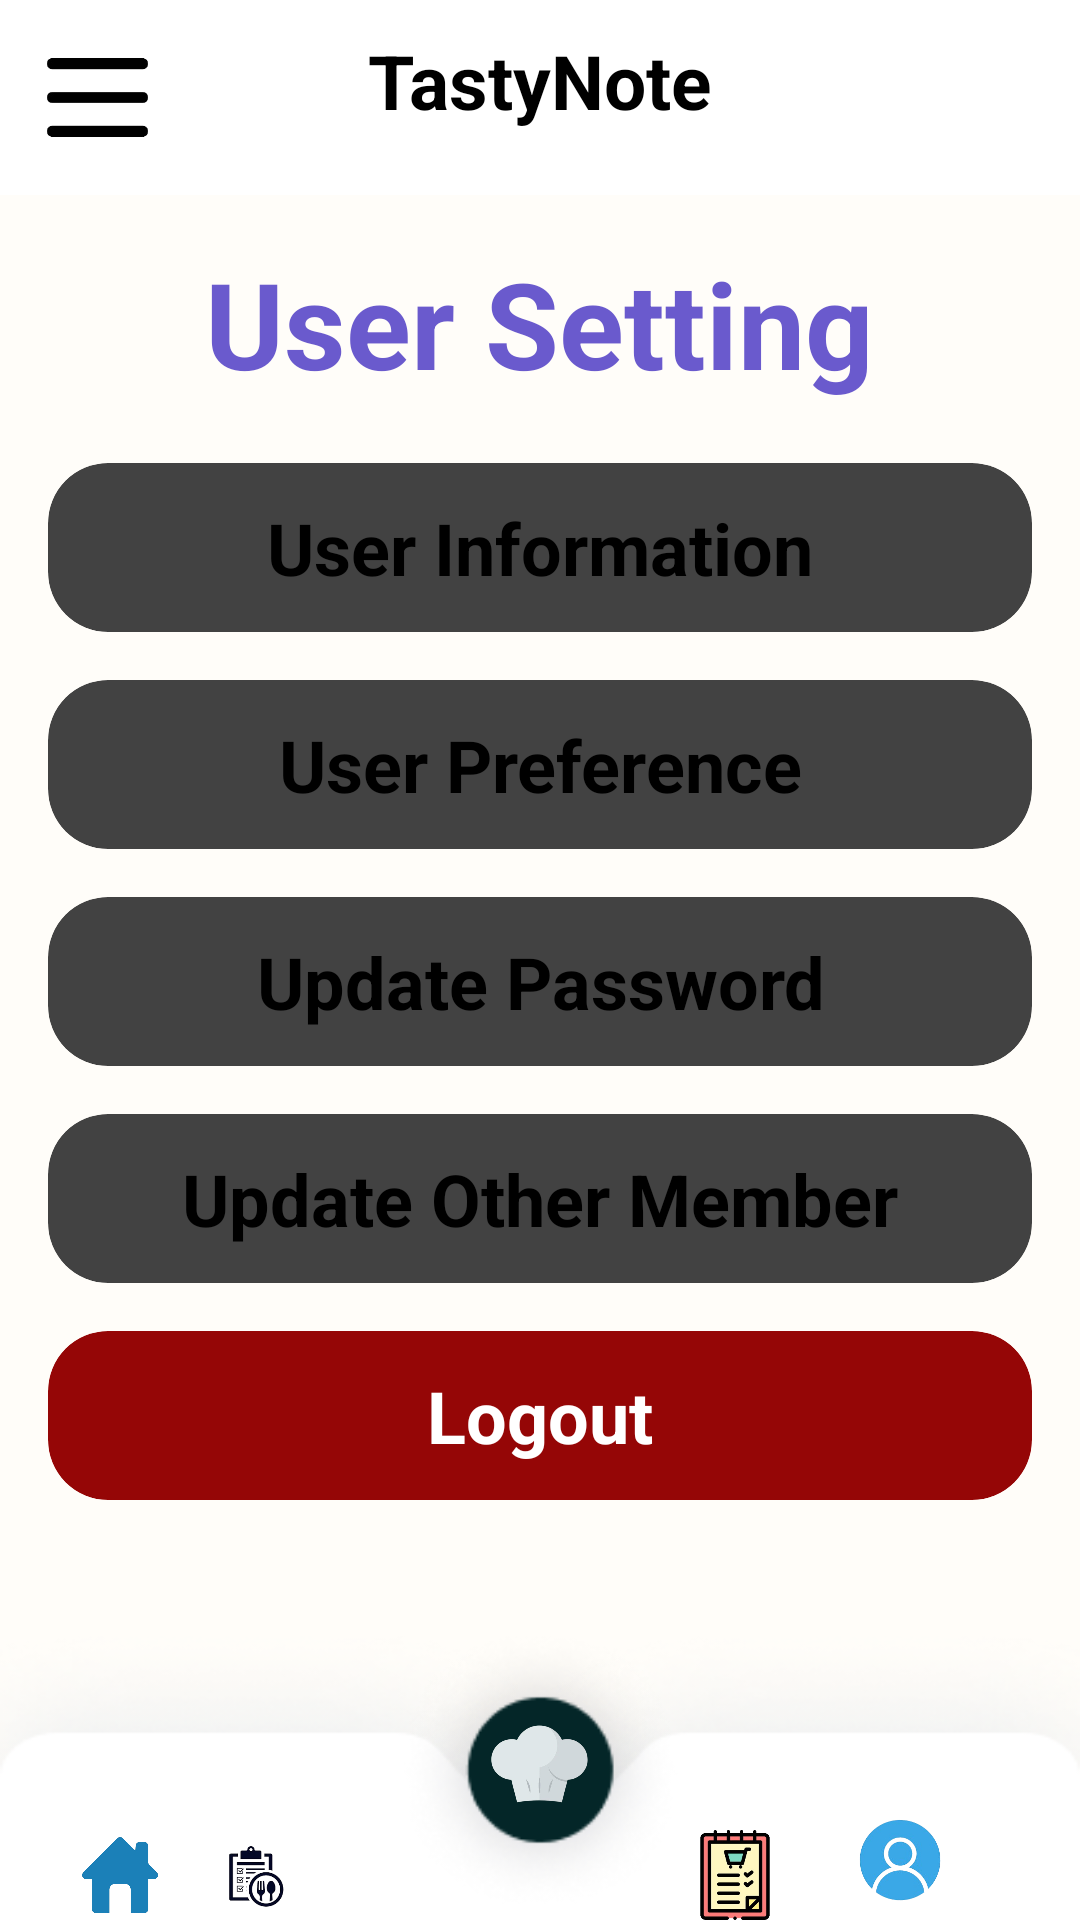

Icons on this 1080px×1920px Android screen, each with the point to tap as (x=x, y=y):
chef hat: (x=539, y=1764)
grocery list: (x=735, y=1875)
